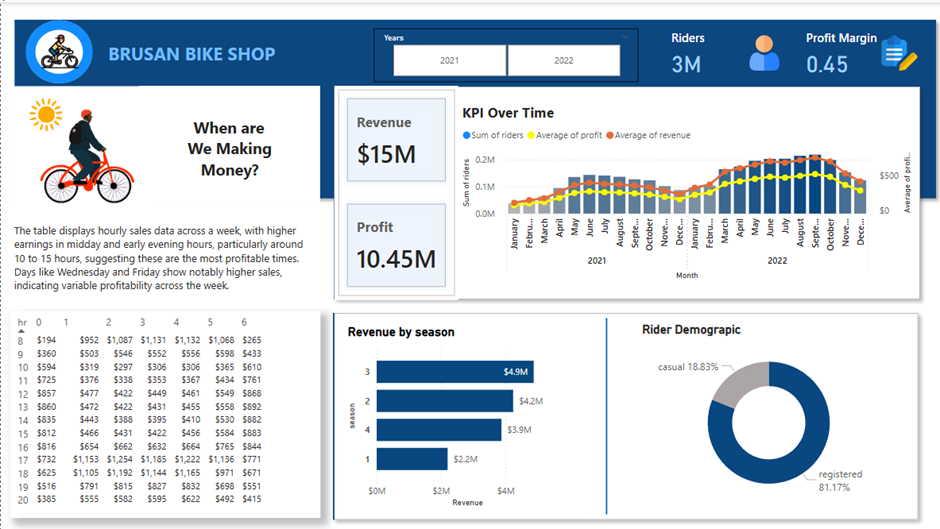

The page's visual inventory and layout, read from the dashboard file:
{"tool":"powerbi","page":{"name":"Page 1","canvas":[1280,720],"ordinal":0},"visuals":[{"type":"shape","box":[9.4,15.1,1269.9,260.8],"z":0},{"type":"cardVisual","fields":{"Data":["Min(Query1.riders)"]},"box":[435.6,97.2,830.7,323.8],"z":1000},{"type":"cardVisual","fields":{"Data":["Min(Query1.riders)"]},"box":[434.6,404.4,829.6,315.6],"z":2000},{"type":"cardVisual","fields":{"Data":["Min(Query1.riders)"]},"box":[13.2,107.7,198.4,187.1],"z":3000},{"type":"pivotTable","fields":{"Values":["Avg(Query1.revenue)"],"Columns":["Query1.weekday"],"Rows":["Query1.hr"]},"box":[13.2,419.5,421.4,281.6],"z":4000},{"type":"lineClusteredColumnComboChart","title":"KPI Over Time","fields":{"Category":["Query1.dteday.Variation.Date Hierarchy.Year","Query1.dteday.Variation.Date Hierarchy.Month","Query1.dteday.Variation.Date Hierarchy.Day"],"Y2":["Avg(Query1.profit)","Avg(Query1.revenue)"],"Y":["Sum(Query1.riders)"]},"box":[621.7,136.1,619.8,245.7],"z":5000},{"type":"textbox","box":[13.2,294.8,421.4,122.8],"z":6000},{"type":"textbox","box":[187.8,113.3,246.1,160.3],"z":7000},{"type":"clusteredBarChart","fields":{"Category":["Query1.season"],"Y":["Sum(Query1.revenue)"]},"box":[466.8,436.5,308,253.2],"z":8000},{"type":"donutChart","title":"Rider Demograpic","fields":{"Category":["Query1.rider_type"],"Y":["Sum(Query1.riders)"]},"box":[865.5,434.6,353.4,253.2],"z":9000},{"type":"shape","box":[780.5,429,85,266.5],"z":10000},{"type":"cardVisual","title":"KPI Over Time","fields":{"Data":["Sum(Query1.revenue)","Sum(Query1.profit)"]},"box":[453.5,113.4,168.2,291],"z":11000},{"type":"cardVisual","fields":{"Data":["Sum(Query1.riders)","Query1.Profit Margin"]},"box":[893.8,19.4,369.2,93.9],"z":12000},{"type":"shape","box":[34,24.3,90.7,85.8],"z":13000},{"type":"image","box":[42.1,35.6,76.1,61.5],"z":14000},{"type":"textbox","box":[140.9,47,259.1,50.2],"z":15000},{"type":"slicer","fields":{"Values":["Query1.Years"]},"box":[506.8,35.6,359.5,72.9],"z":16000}]}

Visuals, with their boxes in screenshot pixels (x1, y1, x2, y2), scaled from the page's 1280x720 canvas onto the 940x529 screenshot:
shape: BBox(7, 11, 939, 203)
cardVisual - Min(Query1.riders): BBox(320, 71, 930, 309)
cardVisual - Min(Query1.riders): BBox(319, 297, 928, 528)
cardVisual - Min(Query1.riders): BBox(10, 79, 155, 217)
pivotTable - Avg(Query1.revenue) x Query1.weekday: BBox(10, 308, 319, 515)
"KPI Over Time" lineClusteredColumnComboChart: BBox(457, 100, 912, 281)
textbox: BBox(10, 217, 319, 307)
textbox: BBox(138, 83, 319, 201)
clusteredBarChart - Query1.season x Sum(Query1.revenue): BBox(343, 321, 569, 507)
"Rider Demograpic" donutChart: BBox(636, 319, 895, 505)
shape: BBox(573, 315, 636, 511)
"KPI Over Time" cardVisual: BBox(333, 83, 457, 297)
cardVisual - Sum(Query1.riders) x Query1.Profit Margin: BBox(656, 14, 928, 83)
shape: BBox(25, 18, 92, 81)
image: BBox(31, 26, 87, 71)
textbox: BBox(103, 35, 294, 71)
slicer - Query1.Years: BBox(372, 26, 636, 80)
